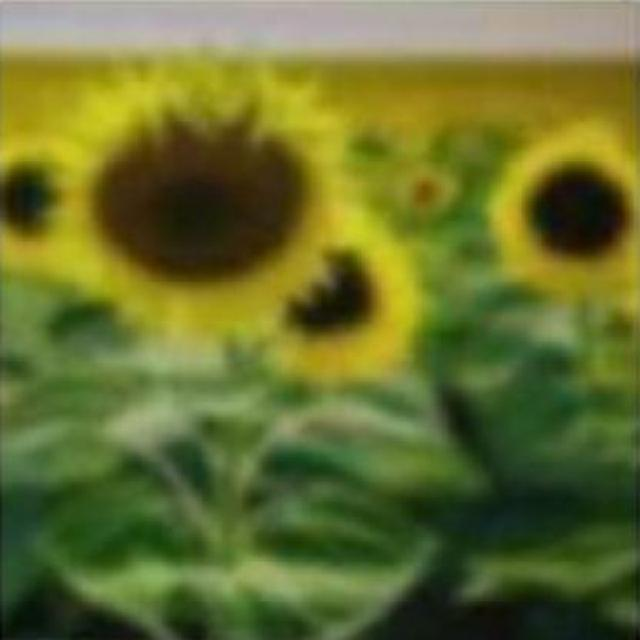sunflower: (59, 66, 346, 323), (498, 118, 640, 300)
